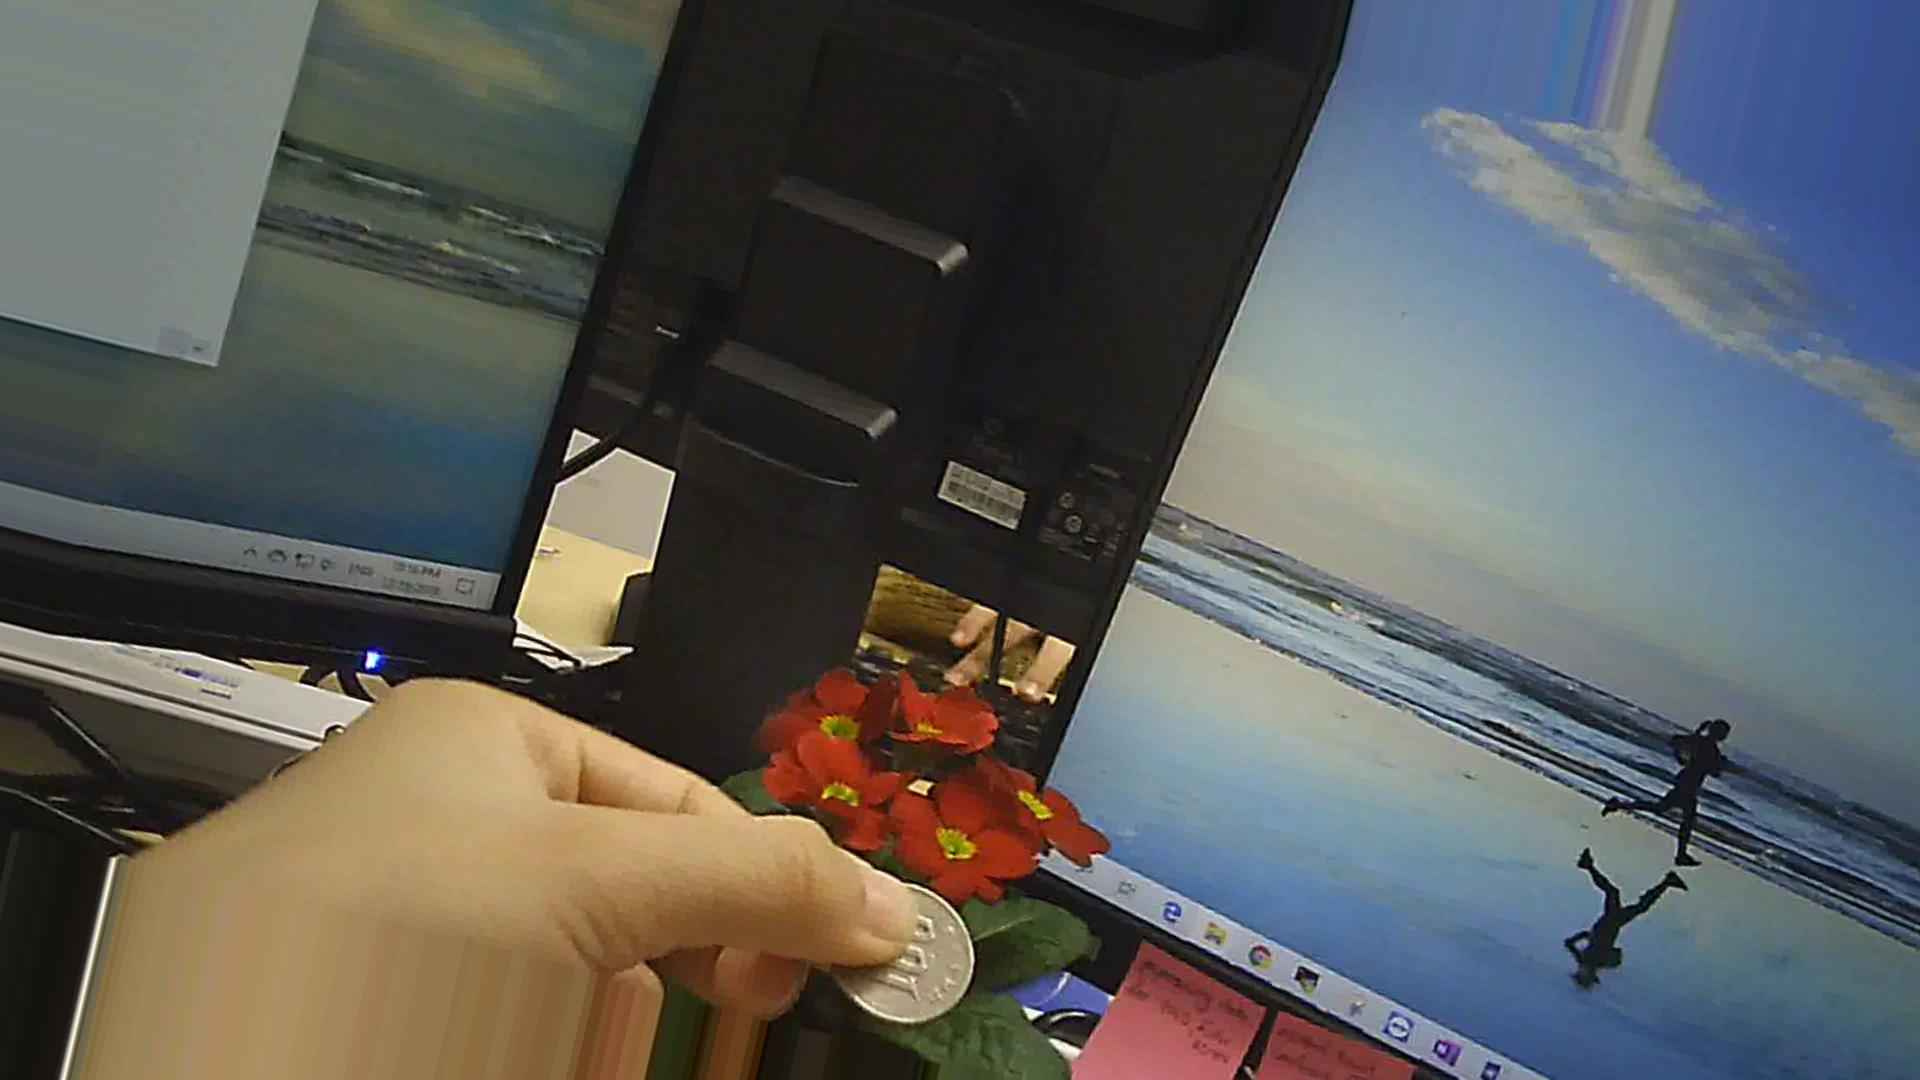100 Yen: (815, 884, 986, 1015)
